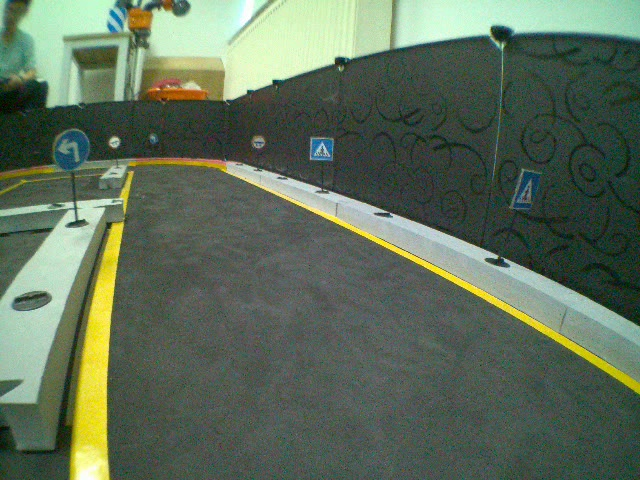Check: (252, 134, 265, 148), (109, 135, 120, 148)
crossing: (507, 167, 543, 213), (310, 135, 334, 161)
turn: (49, 128, 91, 172)
